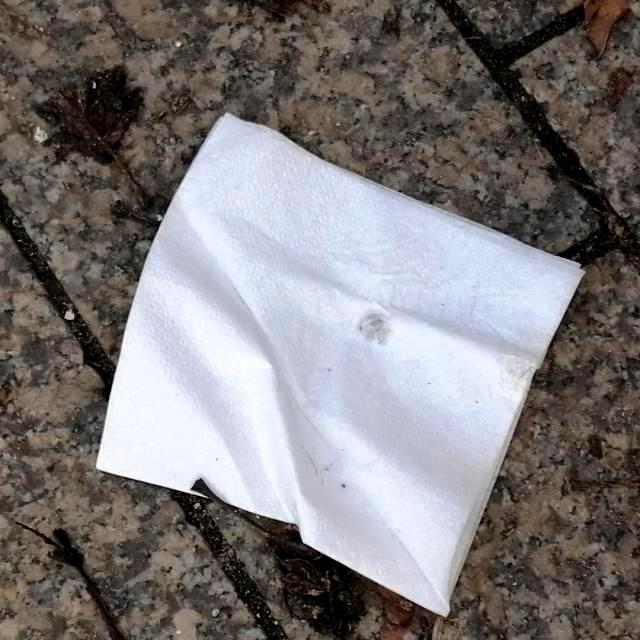Paper: (93, 108, 587, 622)
